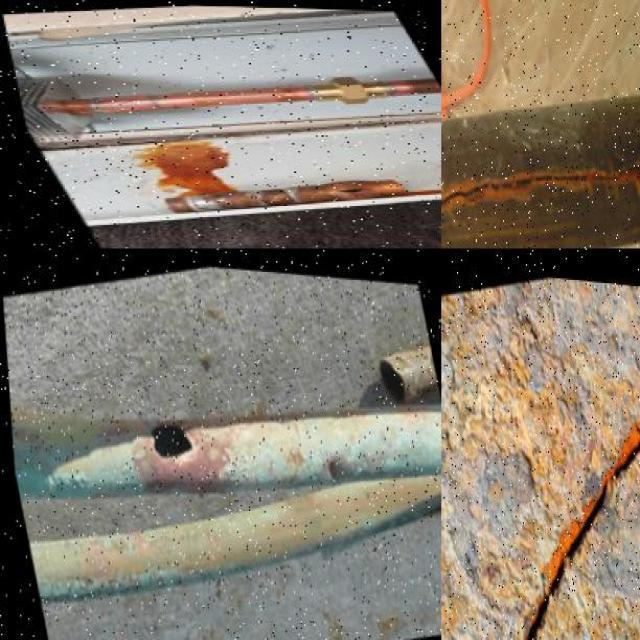crack: (495, 396, 639, 638), (440, 143, 639, 212)
hole: (140, 410, 199, 468)
rupture: (313, 182, 378, 197)
